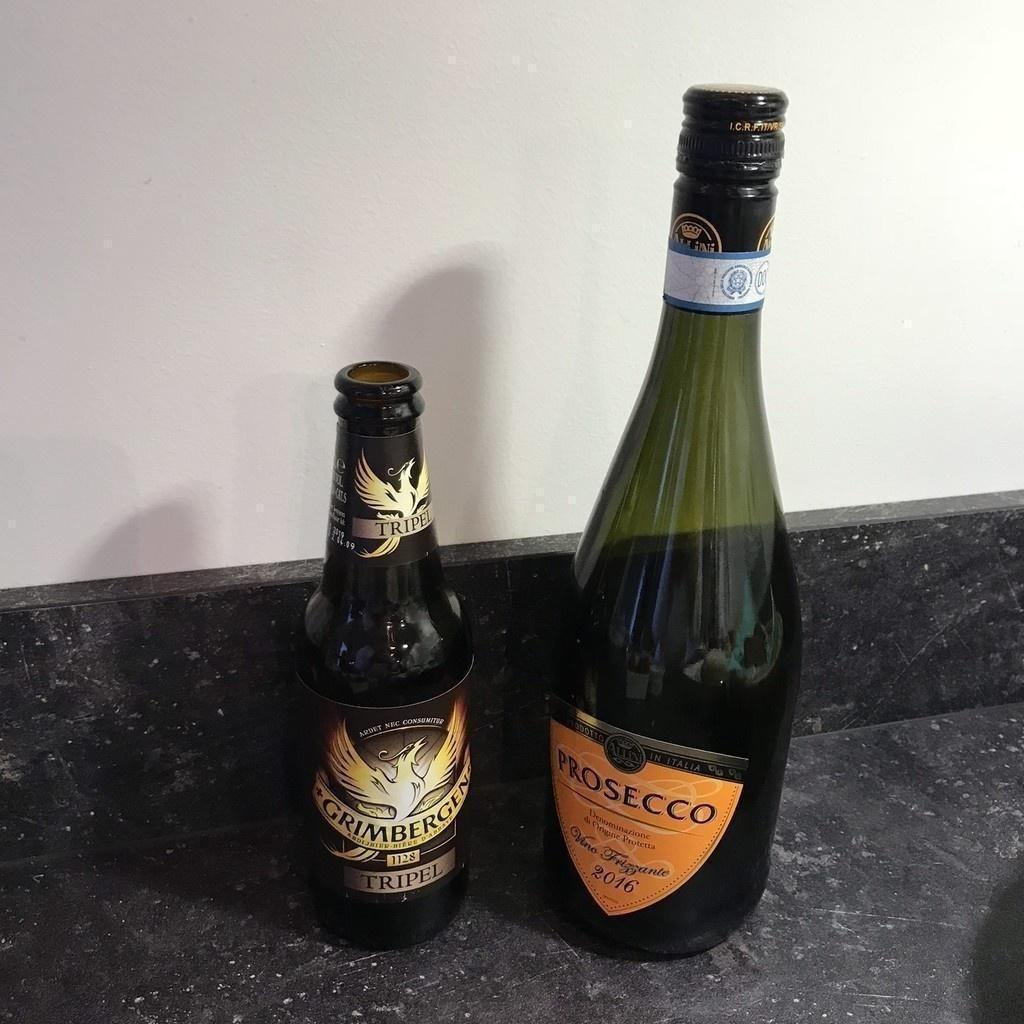bottle-glass: (543, 83, 808, 961), (291, 363, 481, 948)
